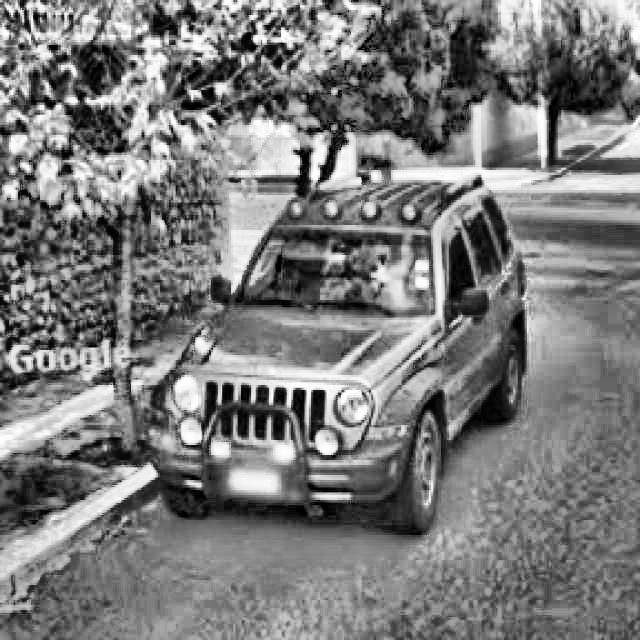carro: (141, 166, 532, 542)
